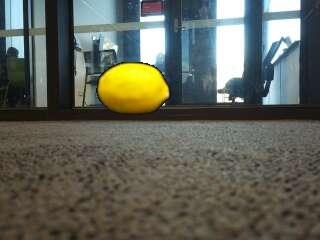lemon: (99, 63, 170, 113)
